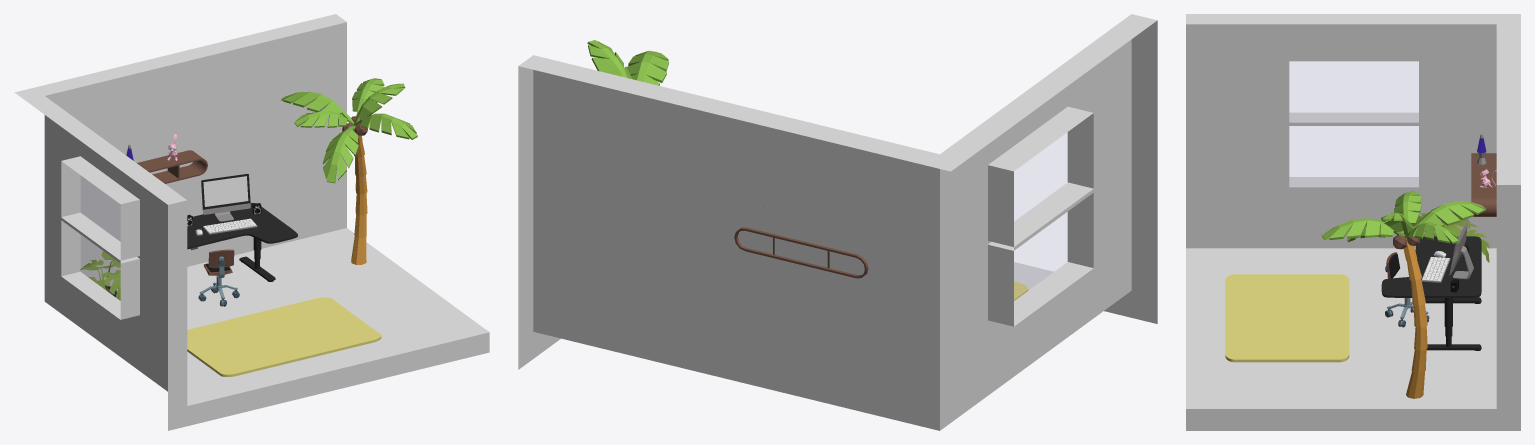
The picture shows the model from 3 angles, left to right: view 1: azimuth 30°, elevation 25°; view 2: azimuth 150°, elevation 25°; view 3: azimuth 270°, elevation 25°; orthographic projection. The views are drawn at different scales.
Visible parts, largest first — view 1: Plane, WawaRug, palm_tree_01, Desk, monitor, shelf, chair, plant_left, keyboard; view 2: Plane, palm_tree_01, shelf; view 3: Plane, WawaRug, palm_tree_01, Desk, shelf, chair, monitor, plant_left, keyboard.
Part boxes in pixels (x1,y1,x2,y2): Plane: (14, 14, 489, 430); WawaRug: (187, 297, 381, 376); palm_tree_01: (281, 78, 417, 264); Desk: (187, 203, 297, 281); monitor: (201, 173, 250, 221); shelf: (137, 150, 207, 183); chair: (198, 249, 239, 306); plant_left: (80, 251, 120, 300); keyboard: (203, 218, 257, 234); Plane: (518, 14, 1157, 430); palm_tree_01: (587, 40, 669, 85); shelf: (734, 227, 868, 278); Plane: (1186, 14, 1520, 430); WawaRug: (1225, 274, 1349, 362); palm_tree_01: (1321, 191, 1486, 398); Desk: (1381, 236, 1481, 350); shelf: (1471, 153, 1496, 216); chair: (1385, 252, 1429, 327); monitor: (1449, 220, 1473, 279); plant_left: (1412, 213, 1490, 262); keyboard: (1421, 257, 1450, 282).
Bounding box in the file's own units: 5.98 × 3.84 × 4.74.
